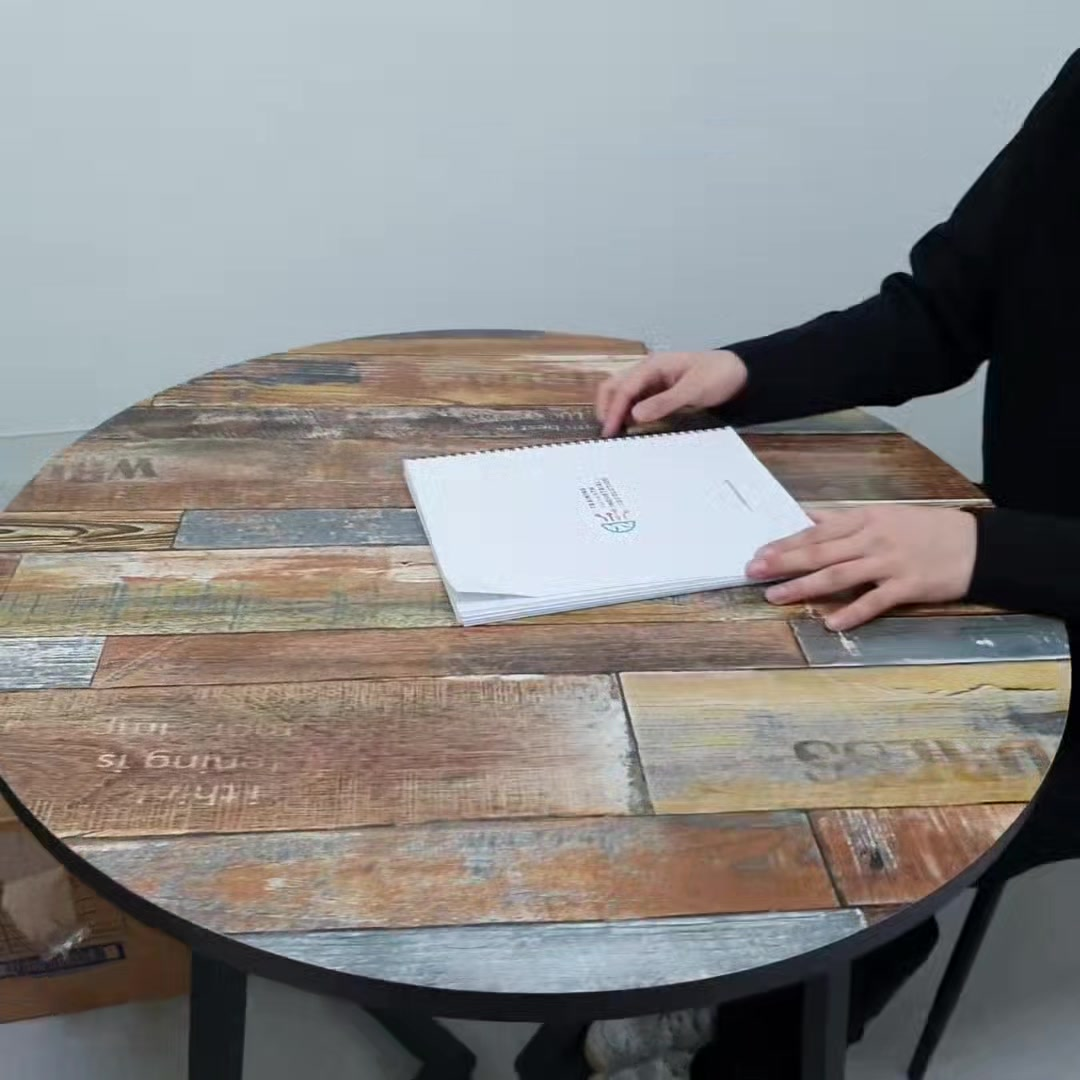book: (402, 425, 835, 641)
